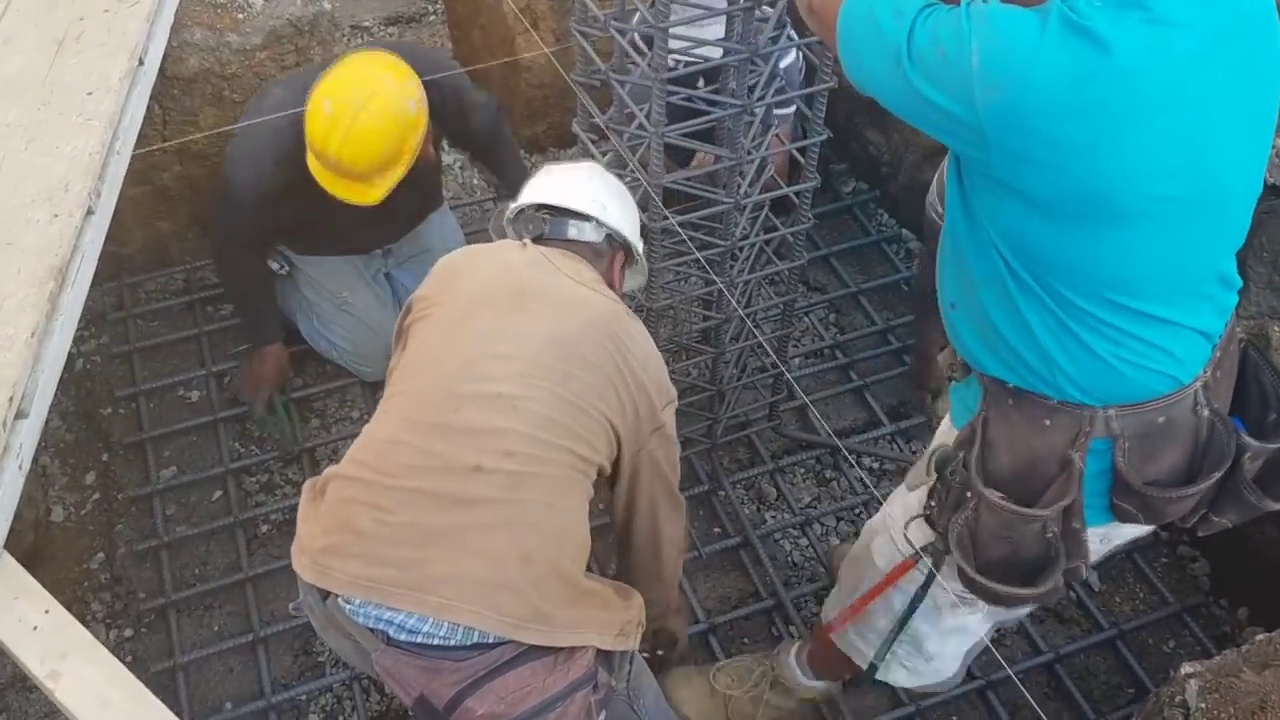helmet: (301, 46, 428, 208), (502, 161, 649, 292)
helmet-on: (498, 161, 648, 305), (301, 42, 430, 209)
person: (666, 2, 1278, 718), (289, 162, 688, 714), (208, 44, 516, 422)
